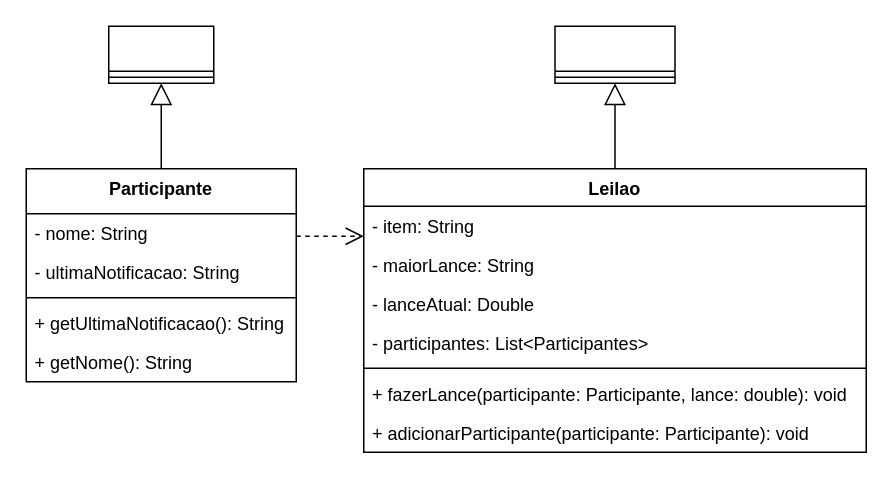
This 893x483 diagram has some shape labels left out. The shapes that lost their labels are listed below. From the top down, each one's centre as x and y in pixels, then its label:
At point (160, 54): "Observer".
At point (614, 54): "Observable".
